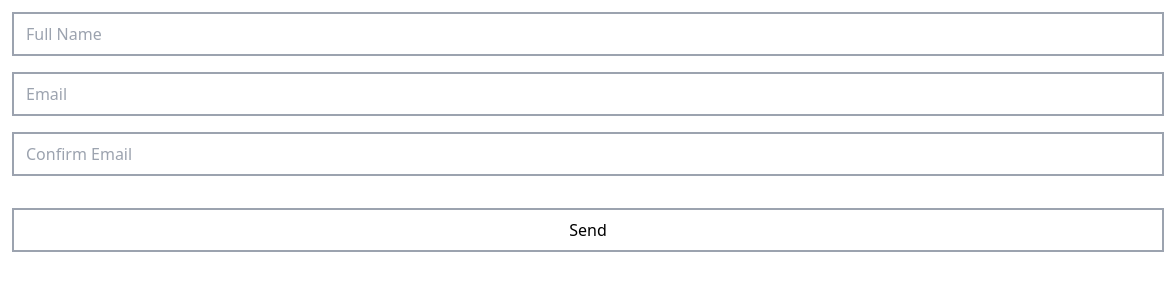
Scenario: RequestInviteForm component › should display confirmation email error when value is not the same as email
Type "aaa" into the field with test id "input-name" at x=588, y=34, box x1=12 y1=12 x2=1164 y2=56
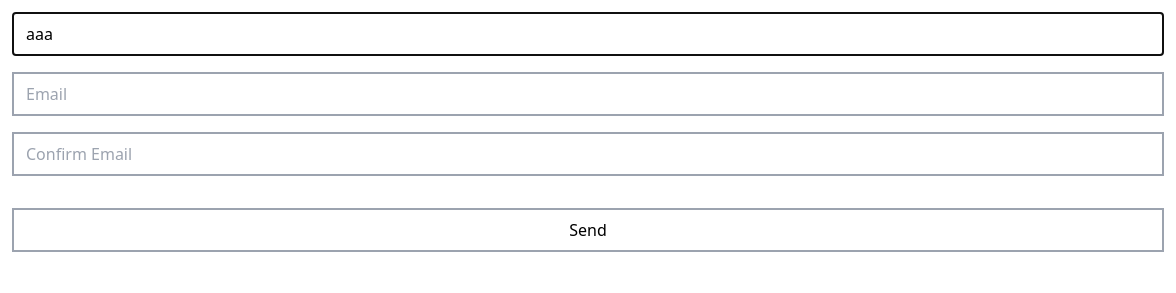
Type "a@a.com" into the field with test id "input-email" at x=588, y=94, box x1=12 y1=72 x2=1164 y2=116
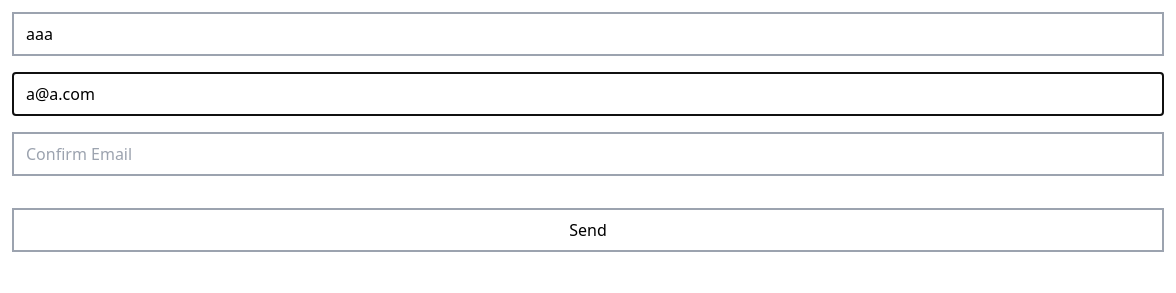
Type "a@a.co" into the field with test id "input-confirm" at x=588, y=154, box x1=12 y1=132 x2=1164 y2=176
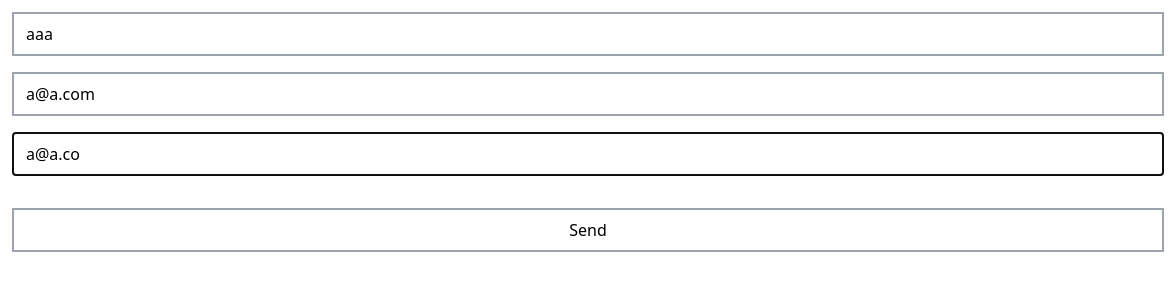
Click the button with test id "submit-button" at x=588, y=230, box x1=12 y1=208 x2=1164 y2=252
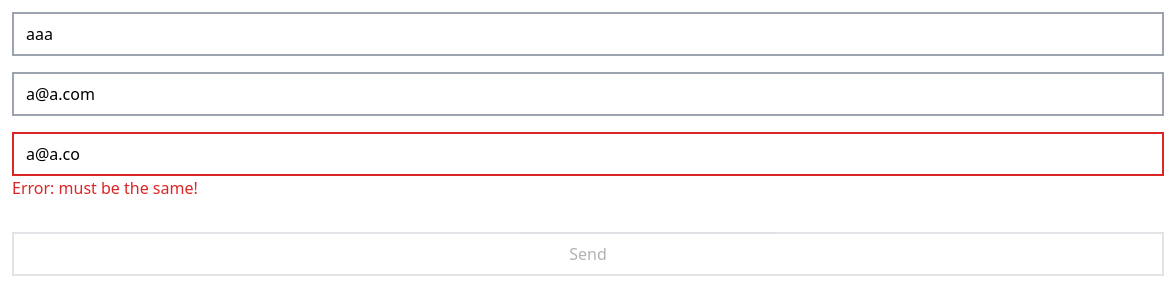
Check: the text "Error: must be the same!" is shown, box x1=12 y1=177 x2=198 y2=199
